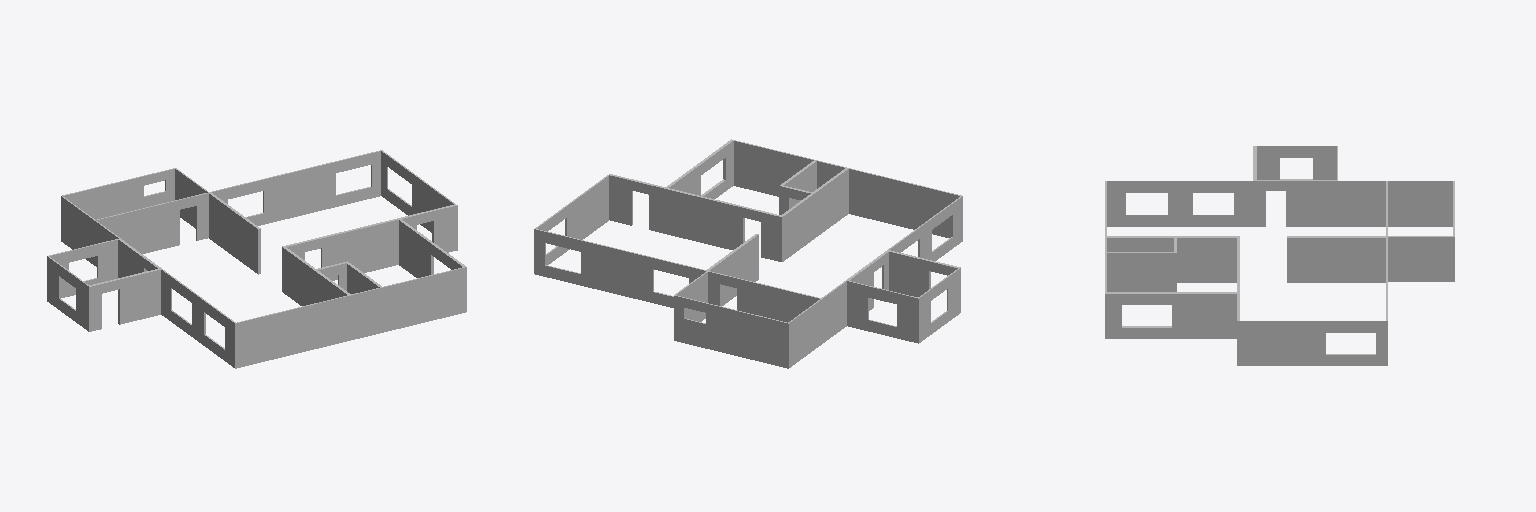
File: house_1stFloor_wall.obj
The picture shows the model from 3 angles: view 1: azimuth 30°, elevation 25°; view 2: azimuth 150°, elevation 25°; view 3: azimuth 270°, elevation 25°; orthographic projection.
Parts seen in each view (by area): view 1: Cube.004_Mesh, Cube.010_Mesh, Cube.066_Mesh, Cube.034_Mesh, Cube.070_Mesh, Cube.028_Mesh, Cube.017_Mesh, Cube.026_Mesh, Cube.057_Mesh, Cube.018_Mesh, Cube.021_Mesh, Cube.012_Mesh (+5 smaller); view 2: Cube.004_Mesh, Cube.066_Mesh, Cube.010_Mesh, Cube.070_Mesh, Cube.057_Mesh, Cube.034_Mesh, Cube.013_Mesh, Cube.012_Mesh, Cube.021_Mesh, Cube.028_Mesh, Cube.017_Mesh, Cube.018_Mesh (+5 smaller); view 3: Cube.021_Mesh, Cube.012_Mesh, Cube.018_Mesh, Cube.017_Mesh, Cube.026_Mesh, Cube.057_Mesh, Cube.023_Mesh, Cube.003_Mesh, Cube.044_Mesh, Cube.014_Mesh.
Part boxes in pixels (bbox=[...]): Cube.004_Mesh: bbox=[234, 267, 463, 368]; Cube.010_Mesh: bbox=[210, 150, 382, 225]; Cube.066_Mesh: bbox=[282, 204, 455, 291]; Cube.034_Mesh: bbox=[96, 193, 208, 253]; Cube.070_Mesh: bbox=[61, 168, 175, 236]; Cube.028_Mesh: bbox=[89, 268, 161, 331]; Cube.017_Mesh: bbox=[161, 269, 235, 367]; Cube.026_Mesh: bbox=[209, 192, 260, 274]; Cube.057_Mesh: bbox=[282, 247, 350, 305]; Cube.018_Mesh: bbox=[397, 218, 466, 312]; Cube.021_Mesh: bbox=[381, 151, 457, 250]; Cube.012_Mesh: bbox=[61, 196, 119, 266]; Cube.004_Mesh: bbox=[734, 140, 962, 241]; Cube.066_Mesh: bbox=[609, 174, 782, 261]; Cube.010_Mesh: bbox=[534, 229, 706, 307]; Cube.070_Mesh: bbox=[674, 295, 789, 368]; Cube.057_Mesh: bbox=[779, 168, 848, 261]; Cube.034_Mesh: bbox=[708, 271, 820, 322]; Cube.013_Mesh: bbox=[847, 281, 919, 343]; Cube.012_Mesh: bbox=[788, 280, 847, 367]; Cube.021_Mesh: bbox=[535, 174, 609, 264]; Cube.028_Mesh: bbox=[889, 250, 960, 312]; Cube.017_Mesh: bbox=[887, 196, 961, 260]; Cube.018_Mesh: bbox=[664, 139, 733, 233]; Cube.021_Mesh: bbox=[1237, 321, 1385, 365]; Cube.012_Mesh: bbox=[1338, 181, 1452, 226]; Cube.018_Mesh: bbox=[1105, 292, 1239, 338]; Cube.017_Mesh: bbox=[1107, 181, 1256, 226]; Cube.026_Mesh: bbox=[1287, 236, 1385, 282]; Cube.057_Mesh: bbox=[1107, 236, 1239, 282]; Cube.023_Mesh: bbox=[1257, 180, 1337, 226]; Cube.003_Mesh: bbox=[1386, 236, 1452, 281]; Cube.044_Mesh: bbox=[1107, 252, 1173, 291]; Cube.014_Mesh: bbox=[1257, 146, 1336, 179].
Size of the model in its own units: 50 by 6 by 42.